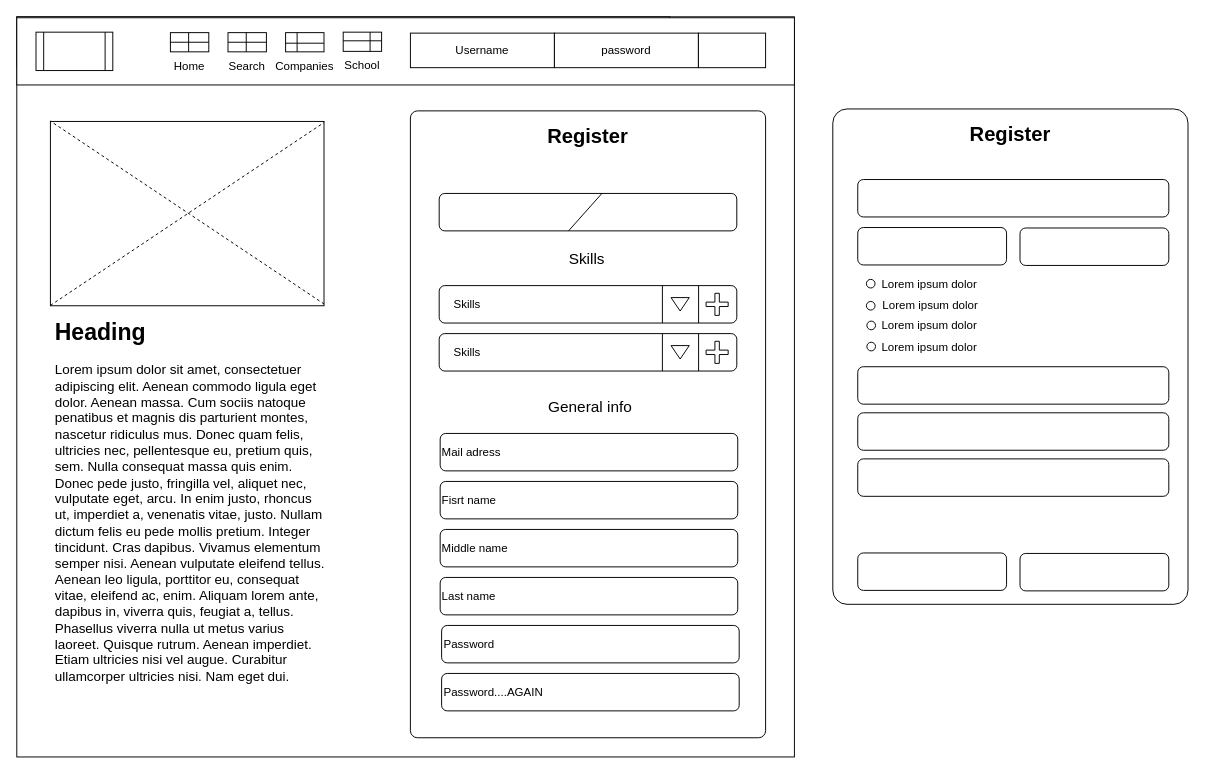
Some shapes in this 1205 by 774 pixel diagram are drawn without their labels. The centre of each missing label's shape, as x and y in pixels:
I'm a student I'm a Company: point 587,211
Login: point 731,50
LOGO: point 74,51
